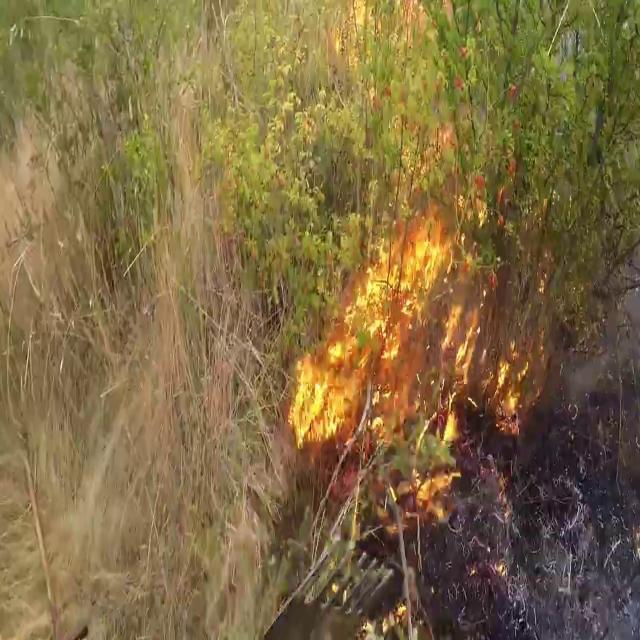Fire: (288, 207, 532, 526)
